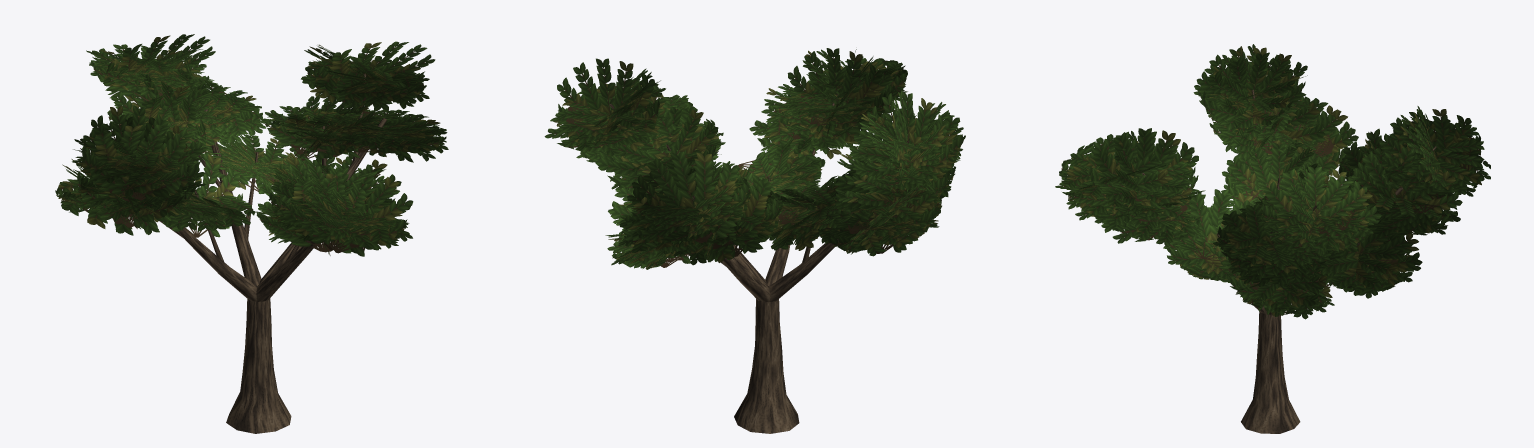
File: ENV_Tree_03.fbx
The picture shows the model from 3 angles, left to right: view 1: azimuth 30°, elevation 25°; view 2: azimuth 150°, elevation 25°; view 3: azimuth 270°, elevation 25°; orthographic projection. The views are drawn at different scales.
Visible parts, largest first — view 1: ENV_Tree_03_LOD0; view 2: ENV_Tree_03_LOD0; view 3: ENV_Tree_03_LOD0.
Part boxes in pixels (bbox=[...]): ENV_Tree_03_LOD0: bbox=[55, 34, 448, 433]; ENV_Tree_03_LOD0: bbox=[544, 48, 965, 433]; ENV_Tree_03_LOD0: bbox=[1055, 44, 1490, 433].
Size of what is drawn, in the model's own units: 12.76 by 10.67 by 13.66.
